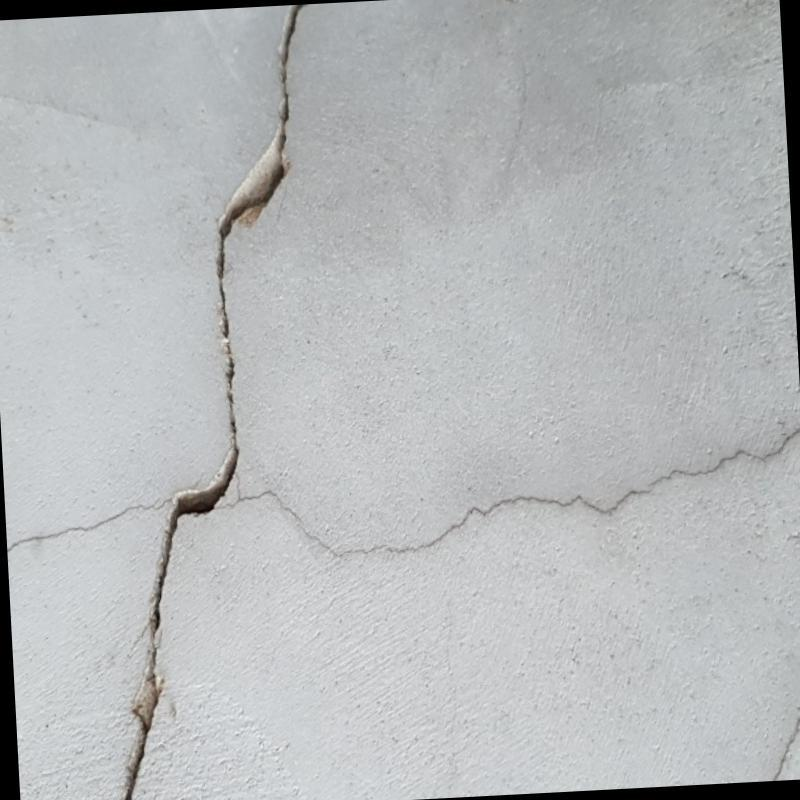pothole: (122, 6, 301, 800), (212, 428, 800, 557), (7, 495, 171, 555), (770, 708, 800, 780)
